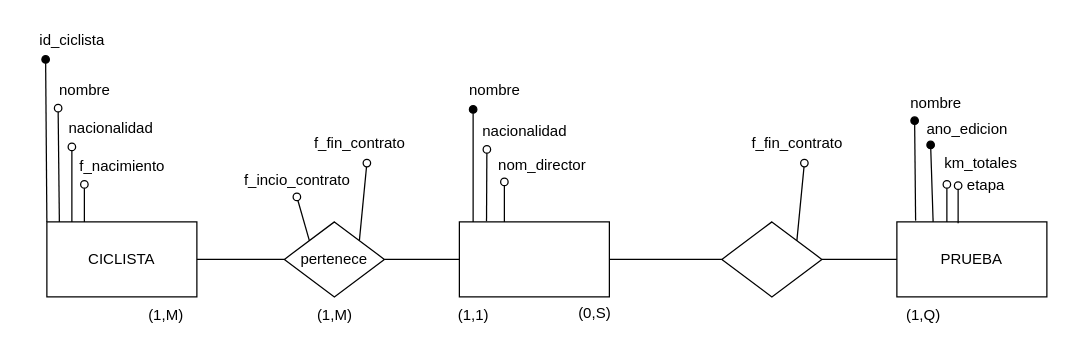
This 1069x355 diagram has some shape labels left out. Here are the shapes that lost their labels. From the top down, the box of each, then its label:
(458, 221, 609, 297): EQUIPO
(721, 221, 822, 297): participa
